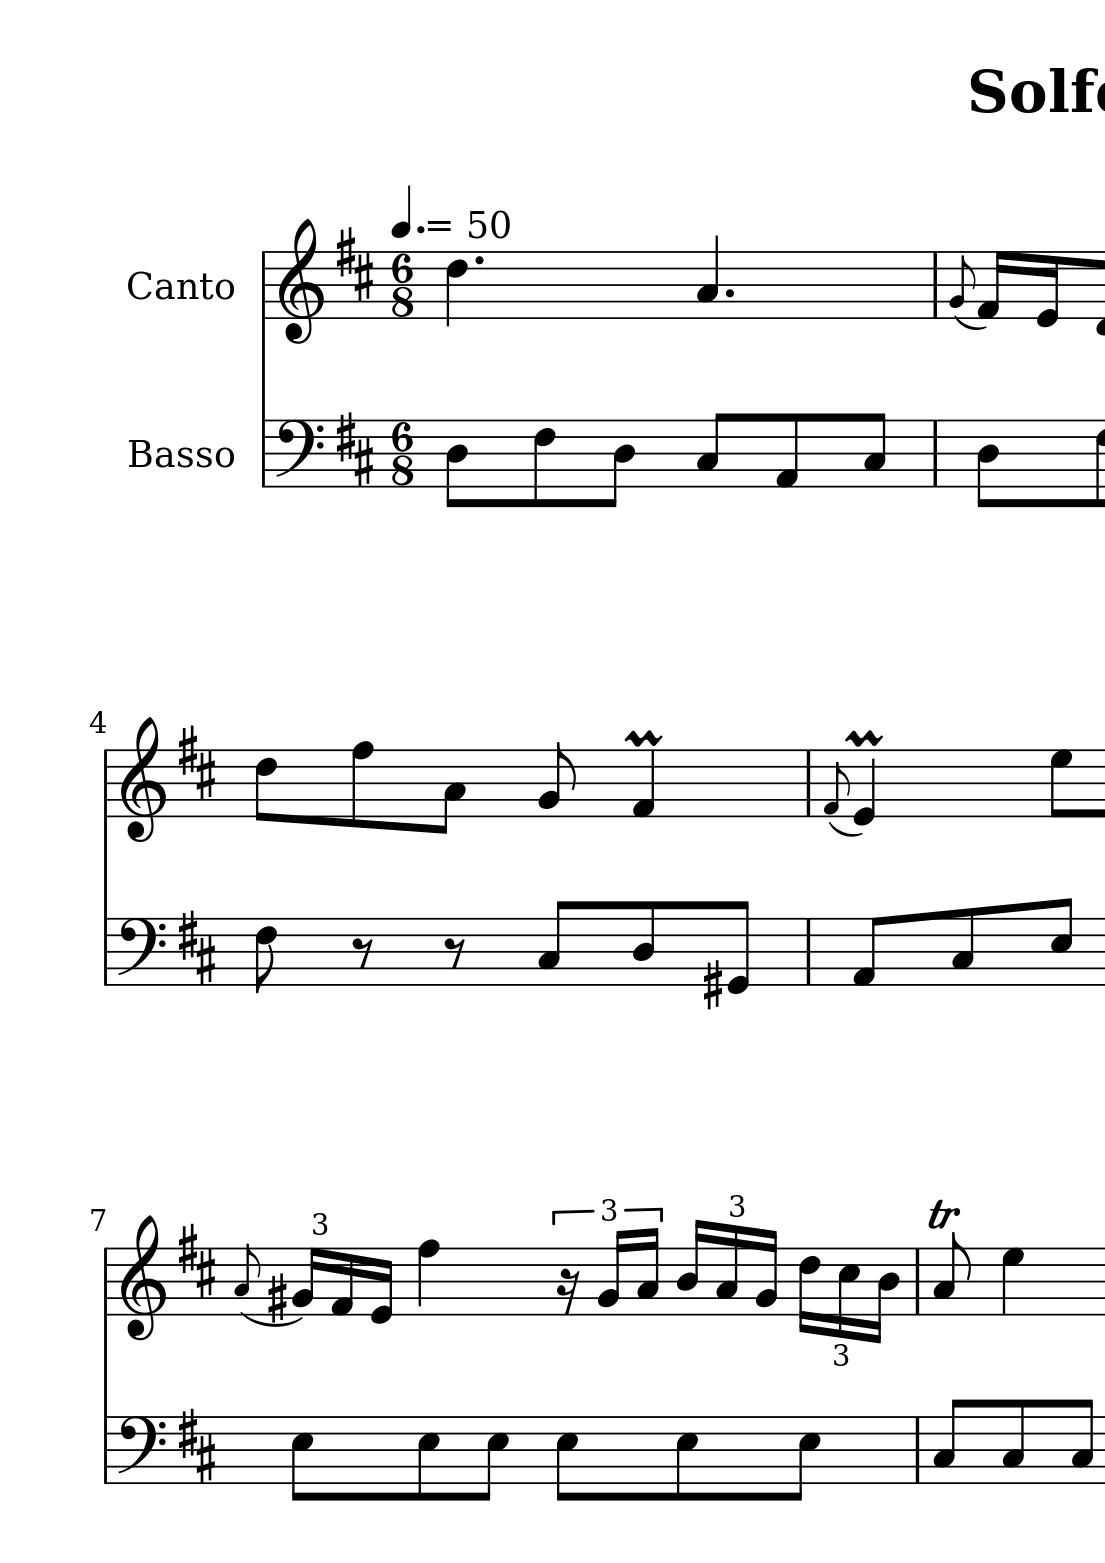0: (489, 208, 509, 239)
16_0: (1034, 249, 1060, 329), (368, 1246, 393, 1326)
16_1: (976, 249, 1008, 322), (328, 1247, 355, 1318)
16_2: (596, 1227, 628, 1317), (753, 1227, 779, 1317), (289, 1246, 320, 1315)
16_3: (714, 1223, 739, 1317), (634, 1226, 659, 1315)
16_4: (674, 1219, 707, 1317), (869, 1245, 899, 1344)
16_5: (836, 1245, 860, 1341)
16_6: (796, 1246, 820, 1335)
3: (727, 1193, 746, 1219), (831, 1343, 850, 1368), (311, 1211, 326, 1237)
4: (87, 707, 109, 738)
4_0: (851, 749, 877, 828)
4_1: (629, 747, 657, 820)
4_3: (694, 233, 720, 320)
4_6: (444, 250, 468, 328)
4_7: (999, 1247, 1025, 1319)
4_8: (415, 1238, 440, 1317)
5: (468, 207, 487, 239)
7: (88, 1205, 106, 1234)
8: (390, 283, 414, 319), (389, 454, 414, 488), (389, 251, 414, 283), (389, 420, 414, 452)
8_0: (726, 898, 752, 995)
8_1: (849, 915, 883, 988), (773, 411, 800, 492), (947, 255, 975, 315)
8_2: (537, 741, 575, 817)
8_3: (930, 1231, 970, 1317), (432, 747, 466, 836), (535, 899, 569, 988), (932, 1397, 964, 1486), (695, 410, 729, 489), (999, 1397, 1026, 1486), (1069, 1397, 1094, 1486), (861, 411, 889, 490), (950, 906, 975, 988)
8_4: (600, 417, 636, 509), (973, 417, 1000, 509), (630, 899, 657, 988), (442, 419, 468, 511)
8_5: (788, 1415, 822, 1503), (477, 1414, 509, 1503), (673, 1414, 700, 1504), (1048, 896, 1073, 987), (288, 1414, 313, 1504), (415, 1414, 440, 1503), (554, 1414, 578, 1504)
8_6: (531, 417, 556, 509), (254, 747, 280, 824), (252, 916, 277, 995)
8_7: (1048, 747, 1074, 820)
8_8: (348, 739, 374, 830)
Bass: (124, 434, 220, 474)
D_S: (173, 906, 218, 987), (175, 724, 216, 800), (175, 1221, 216, 1298), (335, 408, 374, 488), (335, 222, 373, 304), (176, 1408, 216, 1483)
Fclef: (271, 417, 324, 489), (115, 1414, 166, 1485), (115, 915, 165, 987)
Gclef: (117, 1213, 166, 1342), (117, 715, 165, 844), (276, 216, 323, 346)
Rests16: (554, 1266, 581, 1317)
Rests8: (441, 936, 465, 969), (350, 936, 373, 969)
Sharp: (701, 958, 722, 1011), (265, 1271, 287, 1324)
ShortTrill: (842, 726, 883, 749), (622, 728, 664, 749)
Single_barline: (924, 420, 944, 487), (908, 1417, 927, 1483), (799, 750, 817, 817), (908, 1248, 926, 1315), (97, 918, 114, 987), (927, 252, 944, 318), (256, 251, 271, 319), (256, 420, 271, 488), (97, 750, 112, 817), (800, 918, 816, 985), (97, 1417, 112, 1483), (98, 1248, 112, 1315)
Slur: (239, 1312, 303, 1327), (826, 820, 863, 838), (951, 315, 988, 331)
Speed4: (392, 182, 452, 240)
TimeSig: (389, 419, 415, 488), (390, 251, 414, 319)
Trill: (924, 1197, 959, 1231)
dot: (472, 254, 486, 268), (724, 286, 735, 299)
